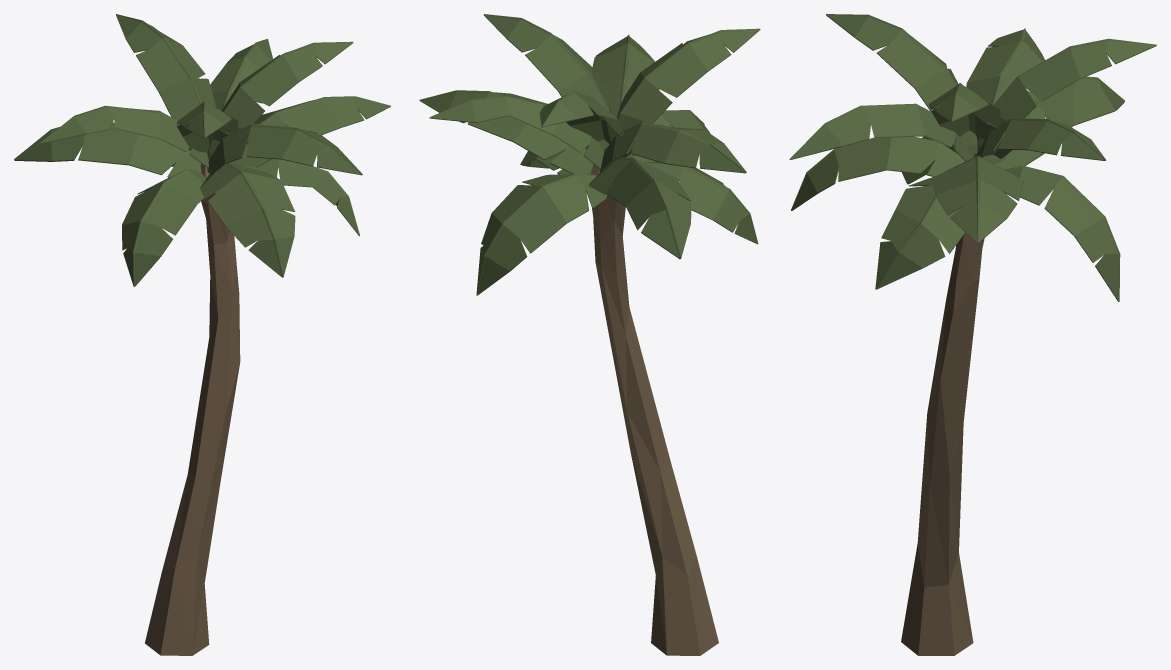
The model's file is SM_Envr_Nature_Tree_Palm_04.fbx.
The picture shows the model from 3 angles, left to right: view 1: azimuth 30°, elevation 25°; view 2: azimuth 150°, elevation 25°; view 3: azimuth 270°, elevation 25°; orthographic projection. The views are drawn at different scales.
Visible parts, largest first — view 1: SM_Envr_Nature_Tree_Palm_04; view 2: SM_Envr_Nature_Tree_Palm_04; view 3: SM_Envr_Nature_Tree_Palm_04.
Part boxes in pixels (x1=…): SM_Envr_Nature_Tree_Palm_04: x1=14, y1=14, x2=390, y2=655; SM_Envr_Nature_Tree_Palm_04: x1=419, y1=14, x2=760, y2=655; SM_Envr_Nature_Tree_Palm_04: x1=789, y1=14, x2=1156, y2=655.
Size of the model in its own units: 733 by 1191 by 631.
